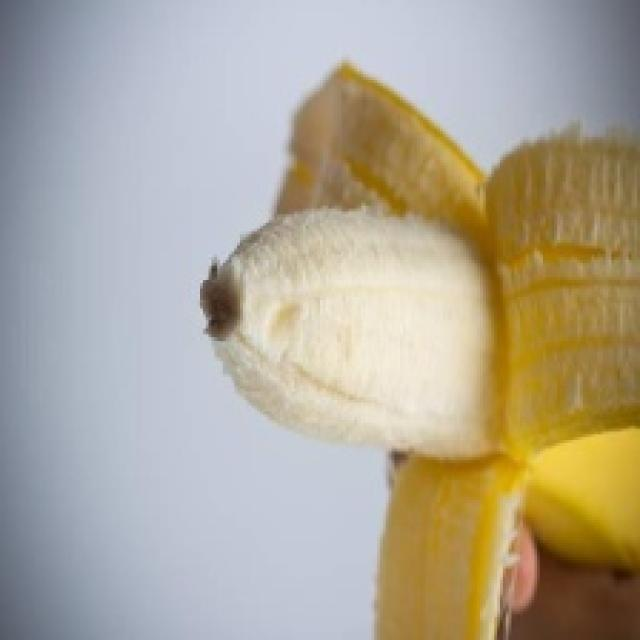Banana: (197, 57, 637, 637)
